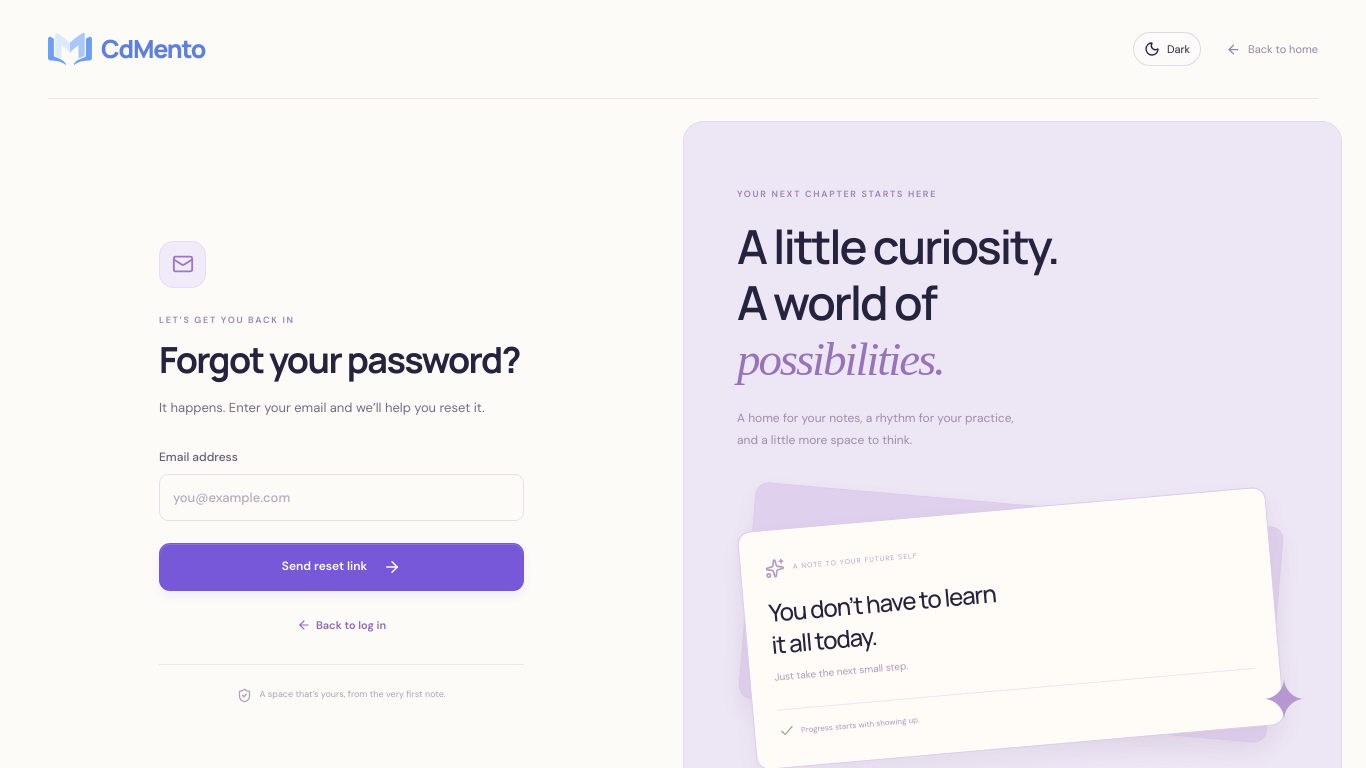
Test: configured account flows › does not reveal whether a password-reset email is registered
This screenshot has width=1366, height=768.
In the field labelled "Email address": (342, 497) x1=159 y1=474 x2=524 y2=521, type "unknown@example.com"
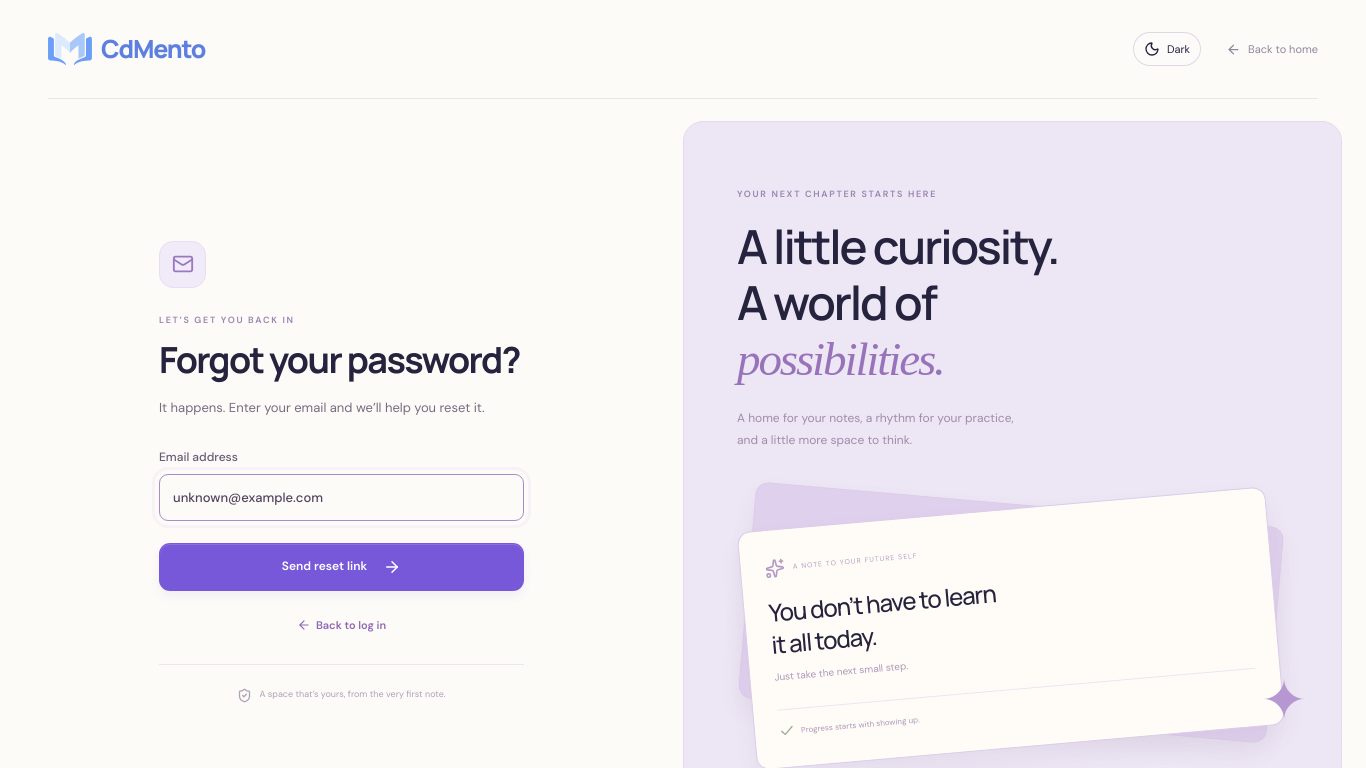
Click the button "Send reset link": (342, 567) x1=159 y1=543 x2=524 y2=591
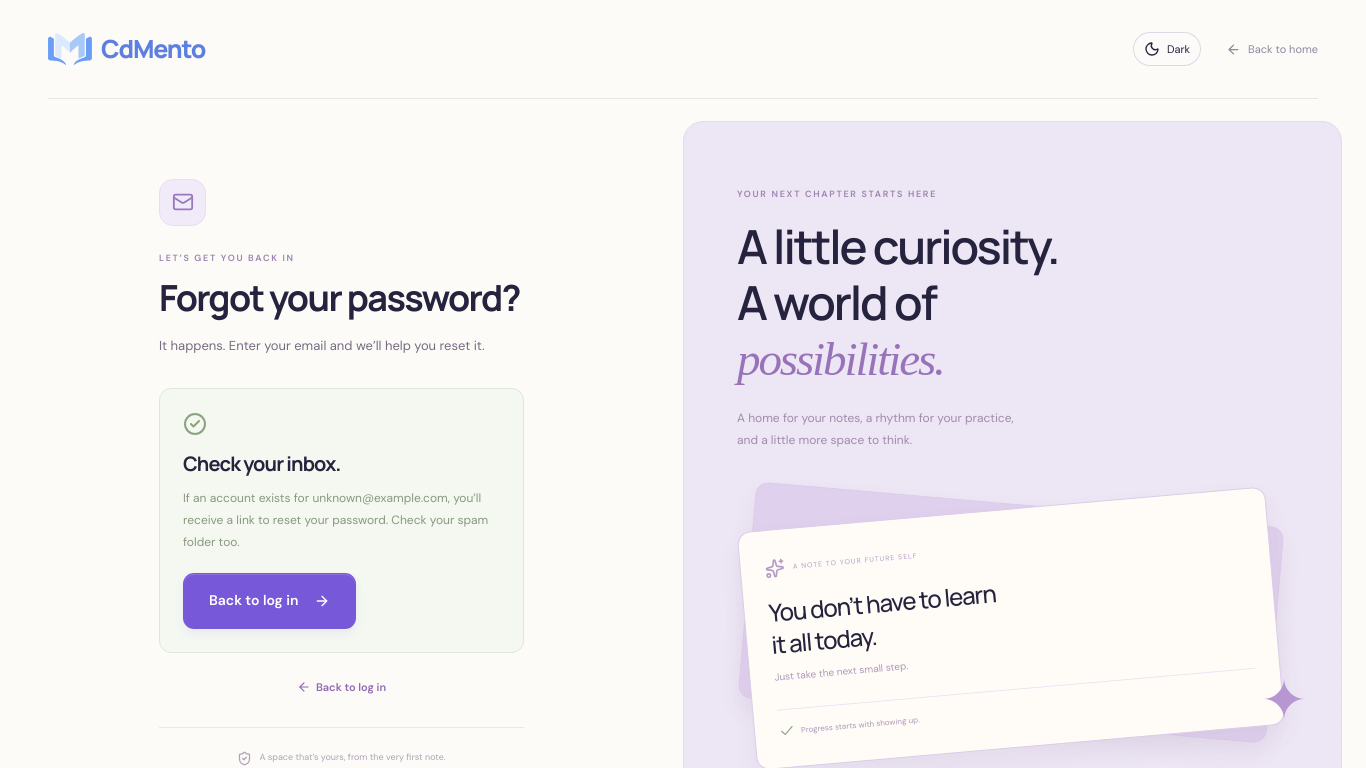
Now the heading "Check your inbox." is shown, box x1=183 y1=450 x2=340 y2=477
